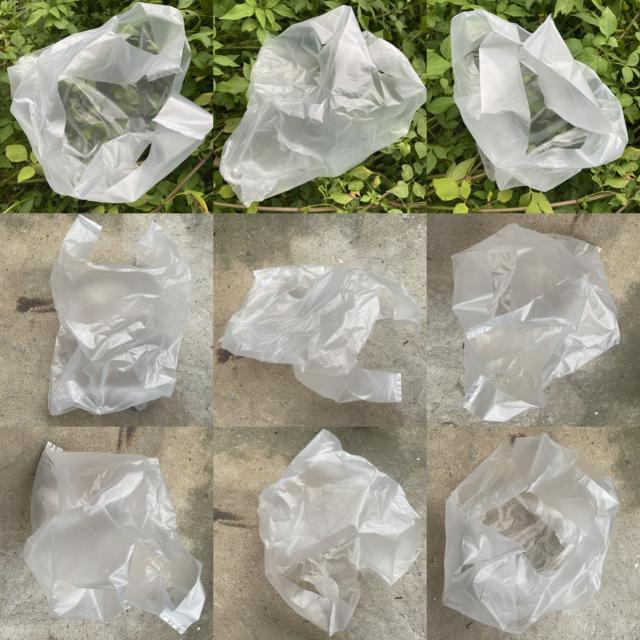Single-layer Plastic: (220, 6, 426, 206), (8, 4, 214, 203), (442, 434, 619, 634), (24, 442, 205, 634), (258, 429, 421, 635), (451, 224, 620, 421), (451, 9, 628, 191), (49, 215, 194, 415), (219, 264, 421, 402)
